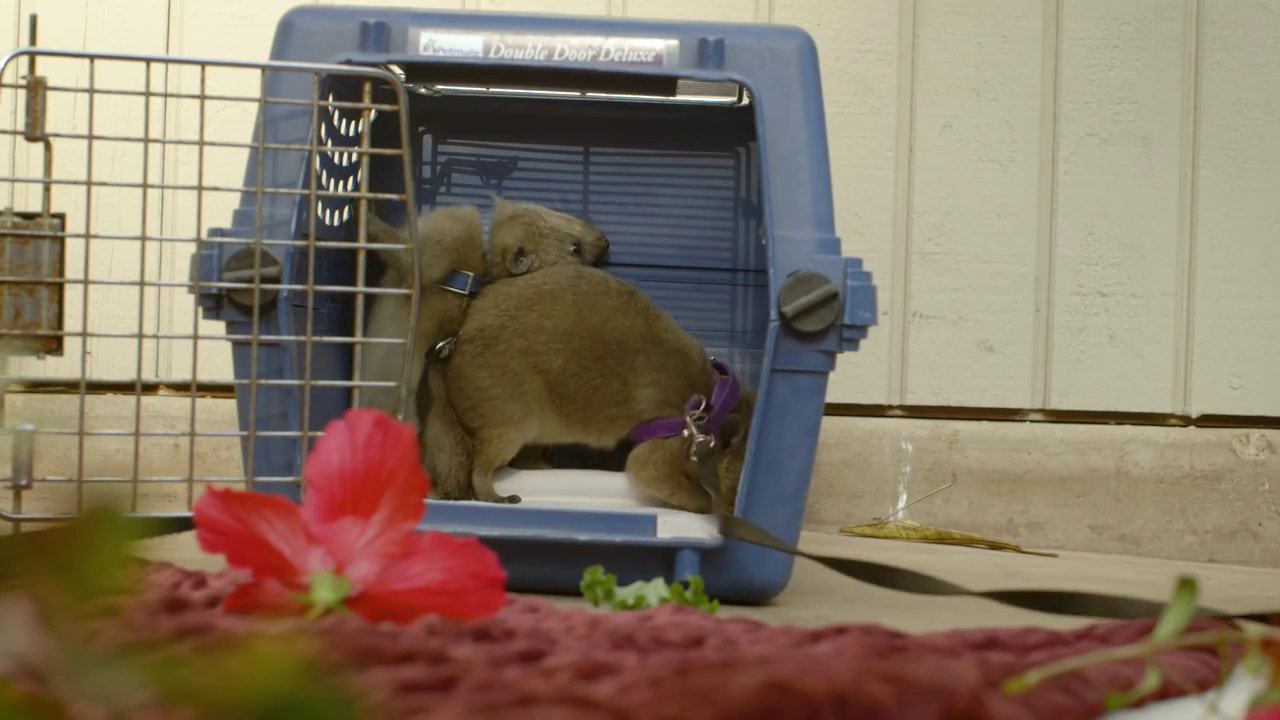Rock Hyrex: (353, 188, 611, 507), (427, 276, 757, 514)
